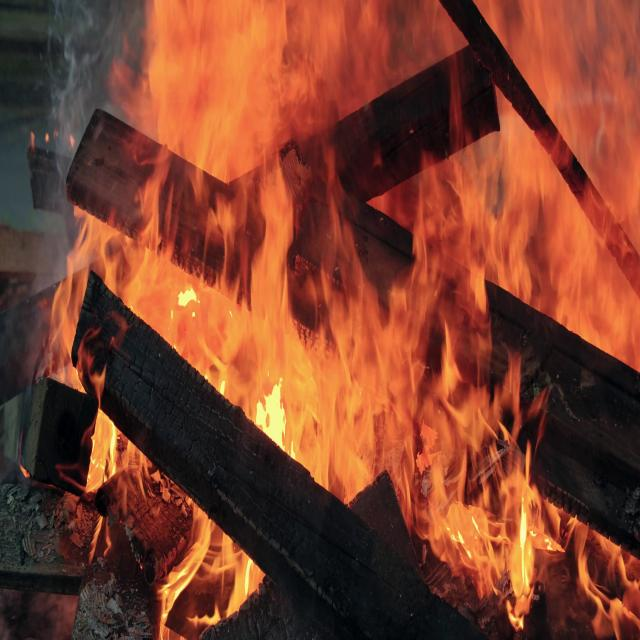Fire: (59, 0, 640, 640), (157, 505, 270, 608), (89, 409, 128, 492)
